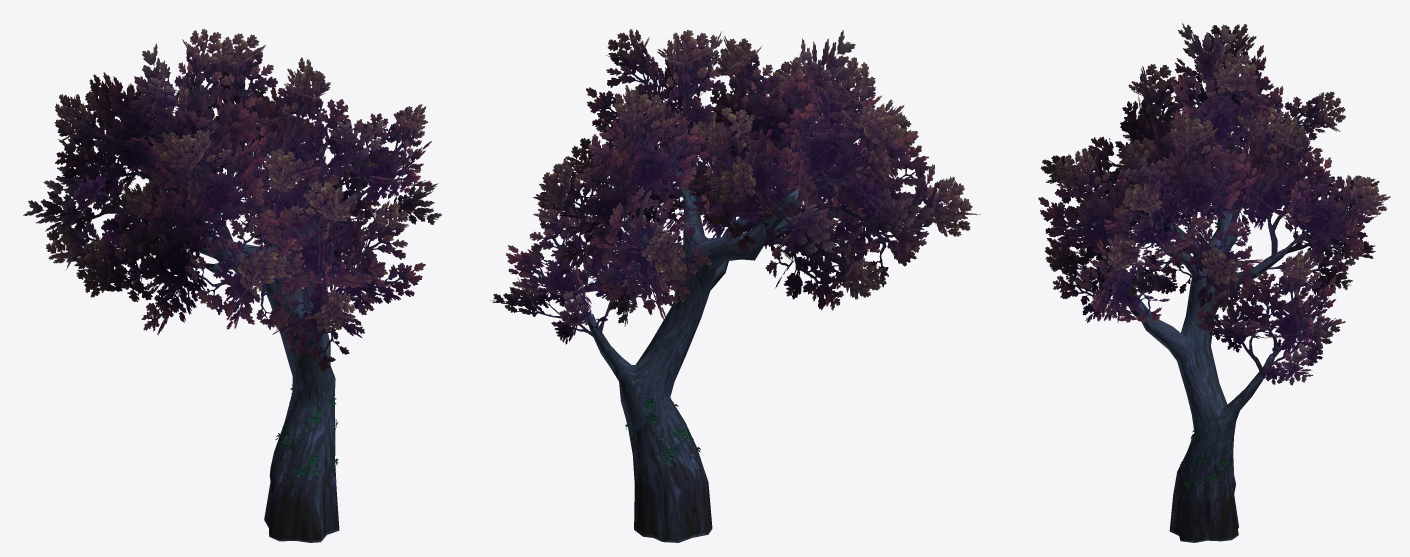
3 renders of one model, left to right at view 1: azimuth 30°, elevation 25°; view 2: azimuth 150°, elevation 25°; view 3: azimuth 270°, elevation 25°, orthographic. The views are drawn at different scales.
Bounding box in the file's own units: 38.58 × 48.15 × 36.32.
Materials: 2 (2 with a texture image).
